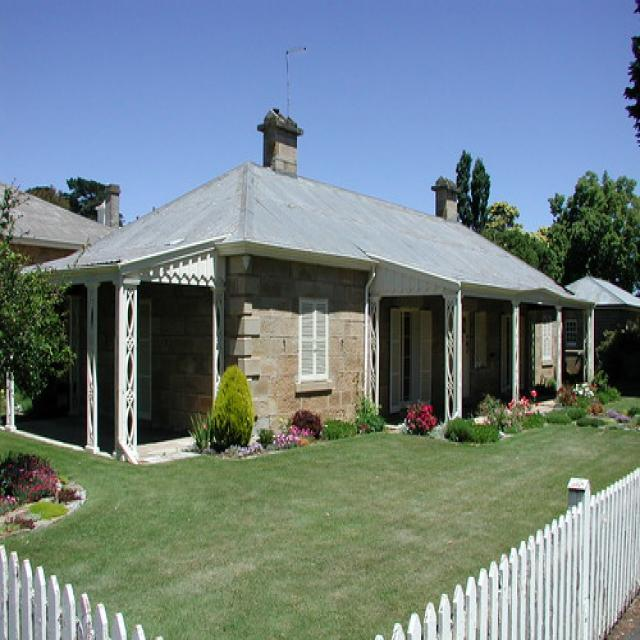Normal_building: (5, 108, 640, 471)
